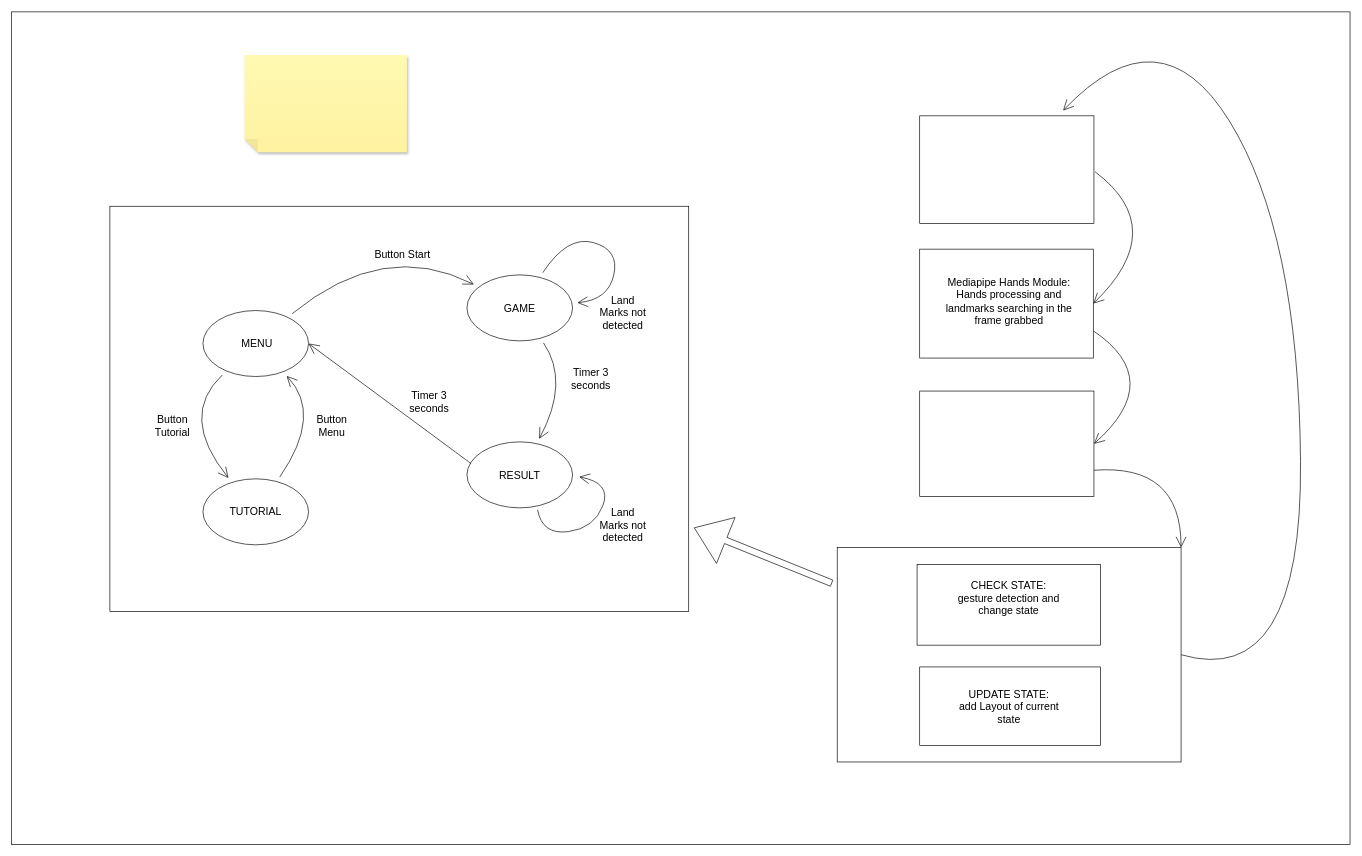
Some shapes in this 1362 by 856 pixel diagram are drawn without their labels. Here are the shapes that lost their labels. From the top down, the centre of each, then its label:
At pixel 326 104: "FRAME CYCLE".
At pixel 1006 169: "Frame video capture".
At pixel 1006 443: "Create Land Marks List (lmList) for processing result".
